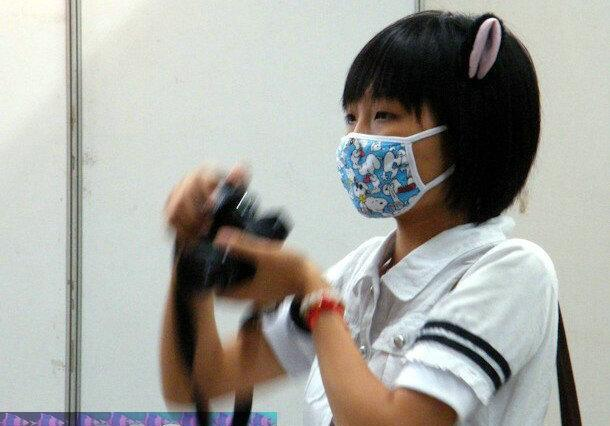OK: (338, 84, 468, 214)
